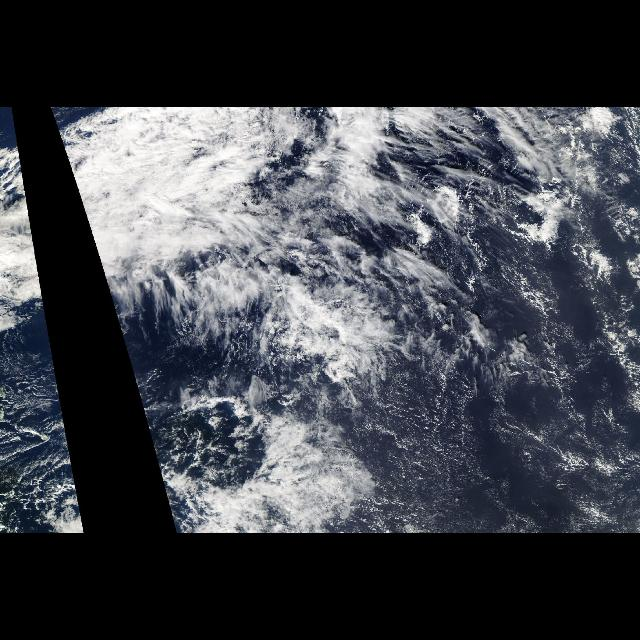Gravel: (0, 382, 86, 532), (148, 432, 252, 534)
Sugar: (355, 251, 639, 533), (122, 338, 208, 424), (2, 338, 66, 424)
